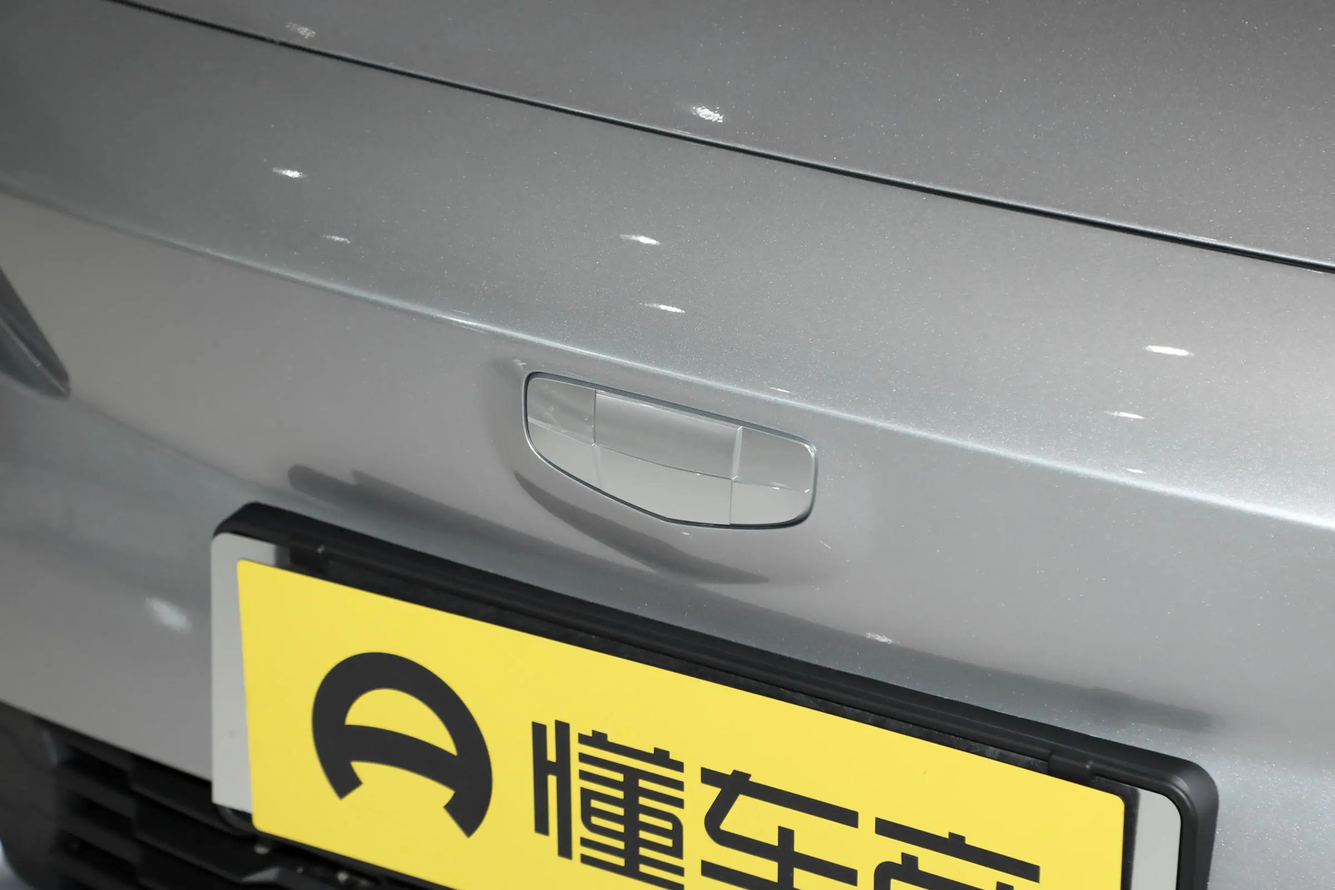GEOMETRY: (528, 379, 812, 523)
